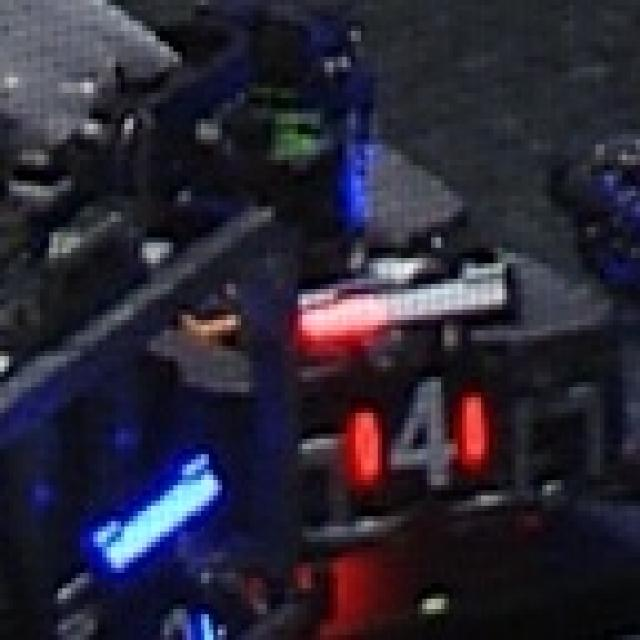R4: (346, 377, 484, 485)
